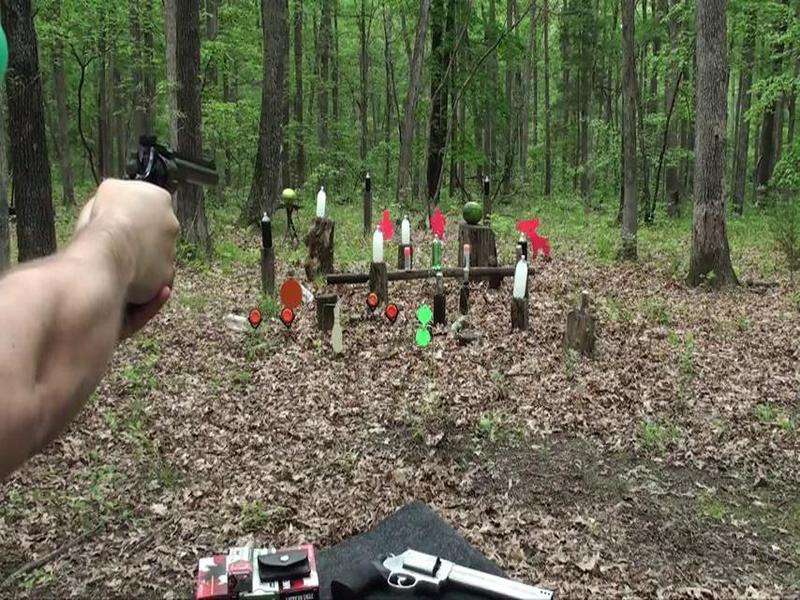Revolver: (111, 130, 237, 228)
